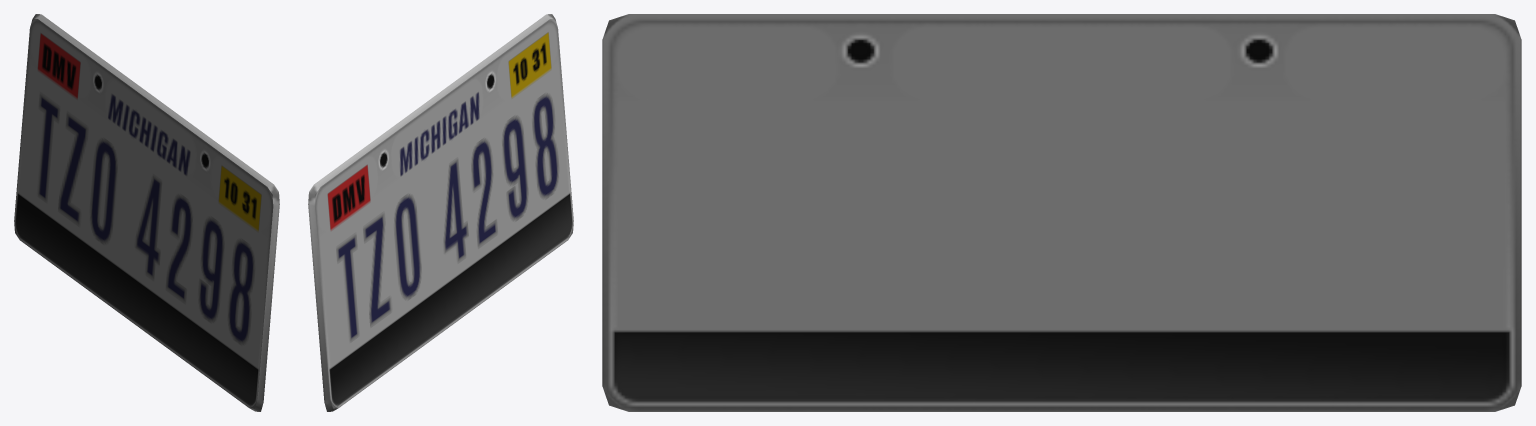
Rendered from tozzo98_numberplate_rear_numberplates_misk_u_0.003_lev3.glb.
The picture shows the model from 3 angles, left to right: view 1: azimuth 30°, elevation 25°; view 2: azimuth 150°, elevation 25°; view 3: azimuth 270°, elevation 25°; orthographic projection. The views are drawn at different scales.
Parts seen in each view (by area): view 1: tozzo98_numberplate_rear_numberplates_misk_u_0.003_lev3; view 2: tozzo98_numberplate_rear_numberplates_misk_u_0.003_lev3; view 3: tozzo98_numberplate_rear_numberplates_misk_u_0.003_lev3.
Boxes of the visible parts, x1,y1,x2,y2 form: tozzo98_numberplate_rear_numberplates_misk_u_0.003_lev3: (14, 14, 279, 411); tozzo98_numberplate_rear_numberplates_misk_u_0.003_lev3: (308, 14, 573, 411); tozzo98_numberplate_rear_numberplates_misk_u_0.003_lev3: (602, 14, 1521, 411).
Size of the model in its own units: 0.0162 by 0.1494 by 0.3.
Materials: 1 (1 with a texture image).
